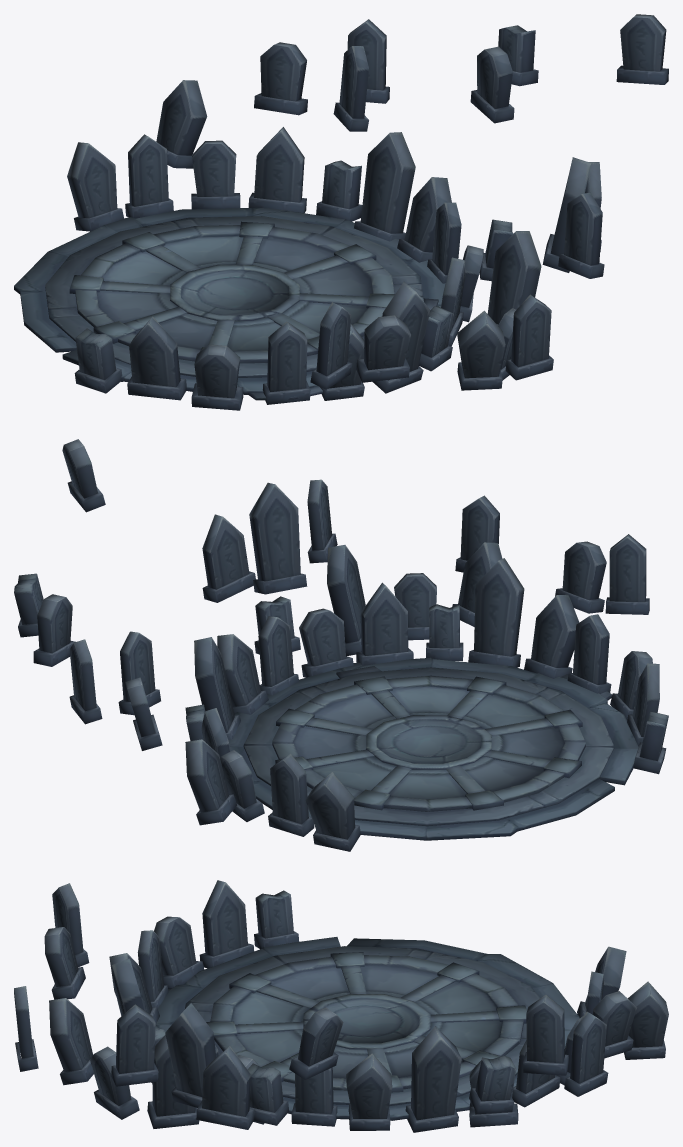
File: Area_02_6.fbx
3 renders of one model, top to bottom at view 1: azimuth 30°, elevation 25°; view 2: azimuth 150°, elevation 25°; view 3: azimuth 270°, elevation 25°, orthographic. The views are drawn at different scales.
Parts seen in each view (by area): view 1: Area_02_6; view 2: Area_02_6; view 3: Area_02_6.
Part boxes in pixels (box(x1,y1,x2,y2)): Area_02_6: box(14, 14, 668, 410); Area_02_6: box(14, 439, 668, 851); Area_02_6: box(14, 880, 668, 1132).
Bounding box in the file's own units: 4356 × 1512 × 4145.
